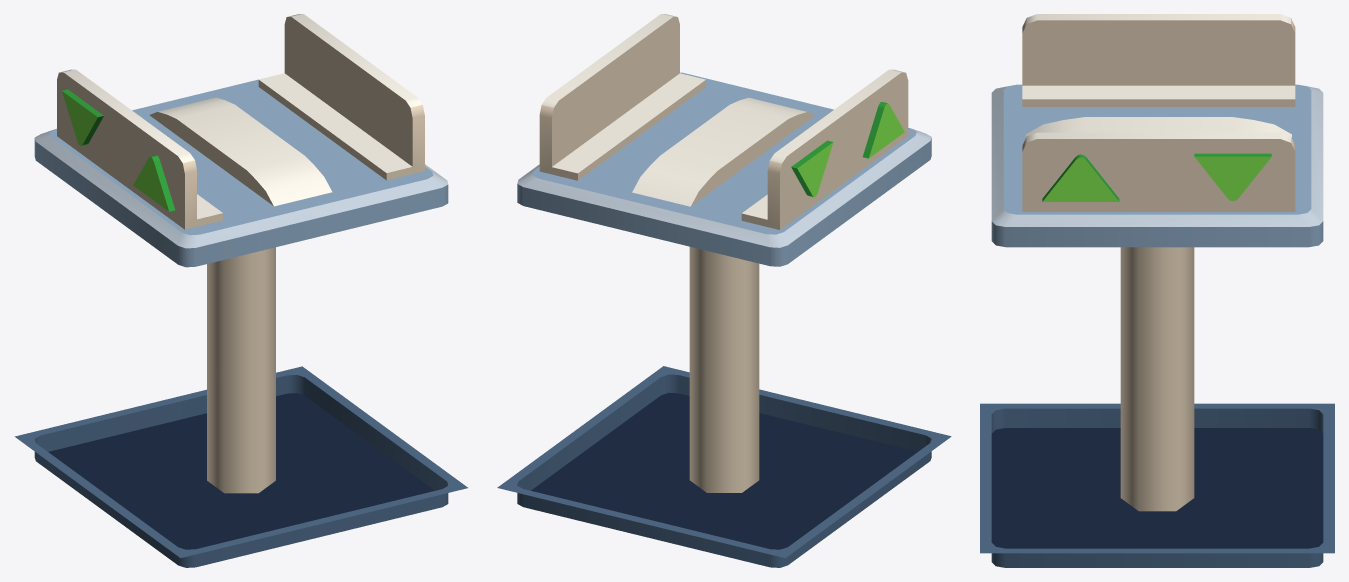
File: ElevatorTile.fbx
3 views of the same model, side by side, from view 1: azimuth 30°, elevation 25°; view 2: azimuth 150°, elevation 25°; view 3: azimuth 270°, elevation 25° (orthographic). The views are drawn at different scales.
Visible parts, largest first — view 1: ElevatorPlatform, ElevatorTile, ElevatorPillar; view 2: ElevatorPlatform, ElevatorTile, ElevatorPillar; view 3: ElevatorPlatform, ElevatorTile, ElevatorPillar.
Part boxes in pixels (bbox=[...]): ElevatorPlatform: bbox=[34, 14, 448, 267]; ElevatorTile: bbox=[14, 366, 467, 567]; ElevatorPillar: bbox=[207, 247, 275, 493]; ElevatorPlatform: bbox=[517, 14, 931, 266]; ElevatorTile: bbox=[497, 366, 951, 567]; ElevatorPillar: bbox=[689, 247, 759, 492]; ElevatorPlatform: bbox=[991, 14, 1323, 247]; ElevatorTile: bbox=[980, 403, 1334, 567]; ElevatorPillar: bbox=[1120, 247, 1194, 511].
Size of the model in its own units: 100 by 100 by 132.
